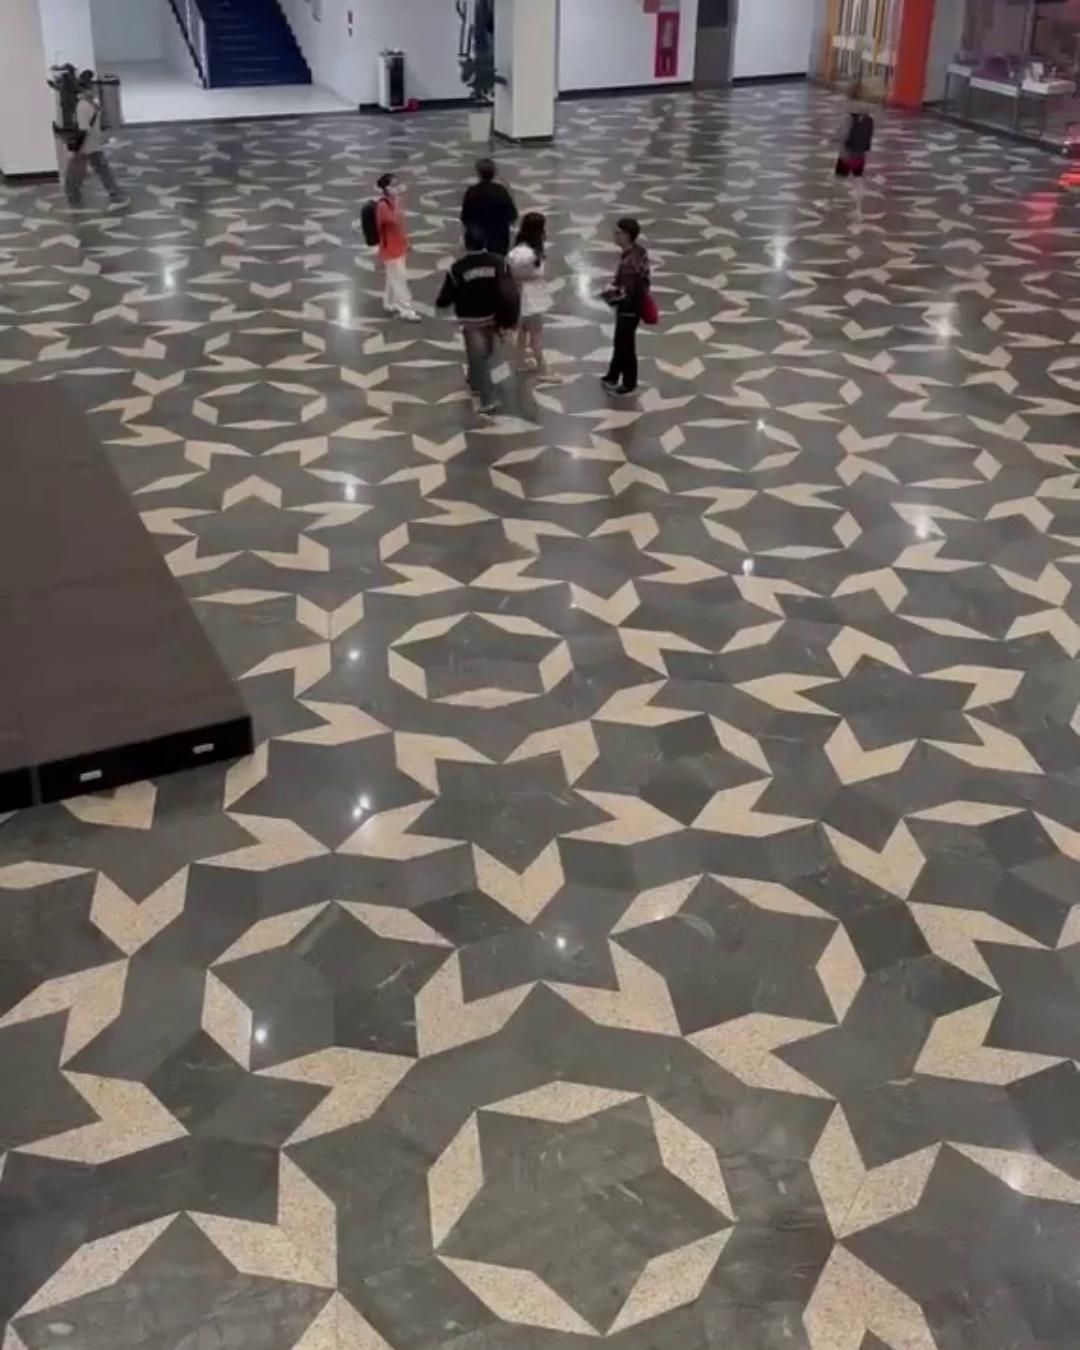your_class: (438, 228, 509, 418), (597, 217, 659, 396), (360, 174, 421, 324), (65, 79, 128, 216), (509, 212, 559, 382), (832, 85, 876, 225), (462, 159, 517, 255)
